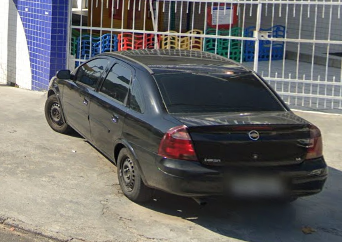car: (44, 50, 329, 209)
